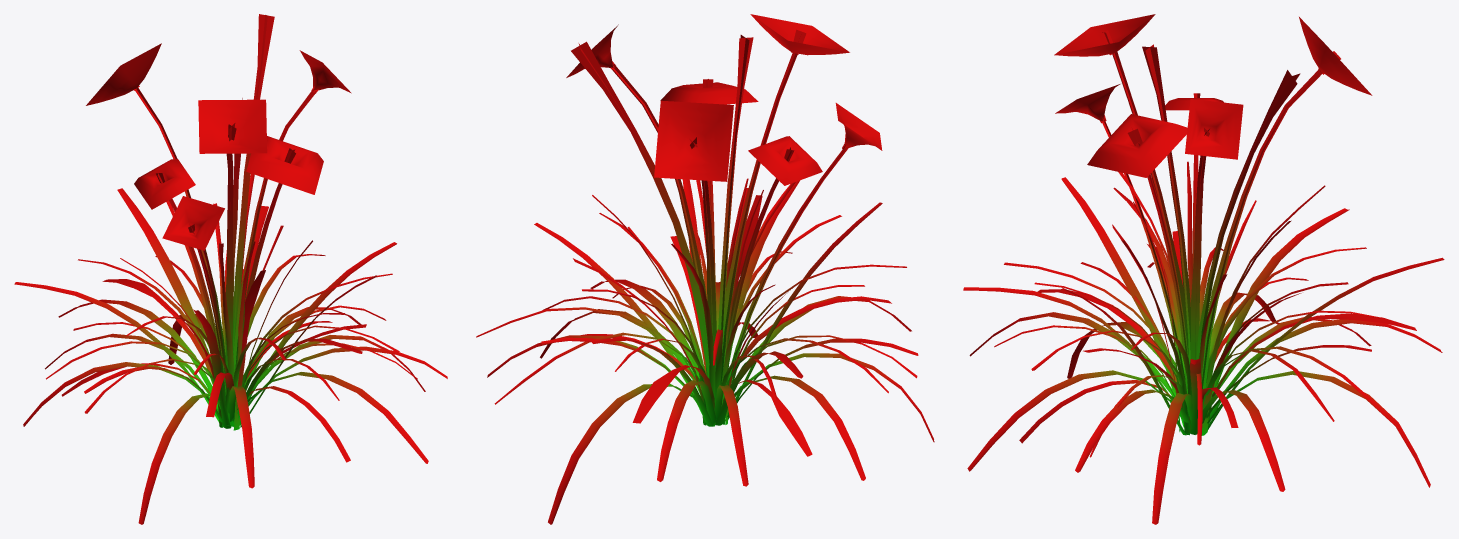
The model's file is White Windflower_LOD1_Var2_sktlN.fbx.
The picture shows the model from 3 angles, left to right: view 1: azimuth 30°, elevation 25°; view 2: azimuth 150°, elevation 25°; view 3: azimuth 270°, elevation 25°; orthographic projection. The views are drawn at different scales.
Visible parts, largest first — view 1: _7902_Var2_LOD1; view 2: _7902_Var2_LOD1; view 3: _7902_Var2_LOD1.
Boxes of the visible parts, x1,y1,x2,y2 form: _7902_Var2_LOD1: (14, 14, 447, 524); _7902_Var2_LOD1: (476, 14, 934, 524); _7902_Var2_LOD1: (963, 14, 1444, 524).
Bounding box in the file's own units: 73.2 × 77.91 × 78.12.
